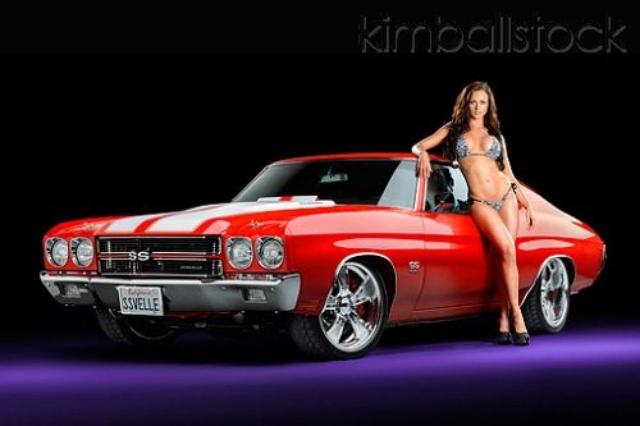chevelle-1972: (38, 152, 499, 358), (516, 186, 605, 333)
